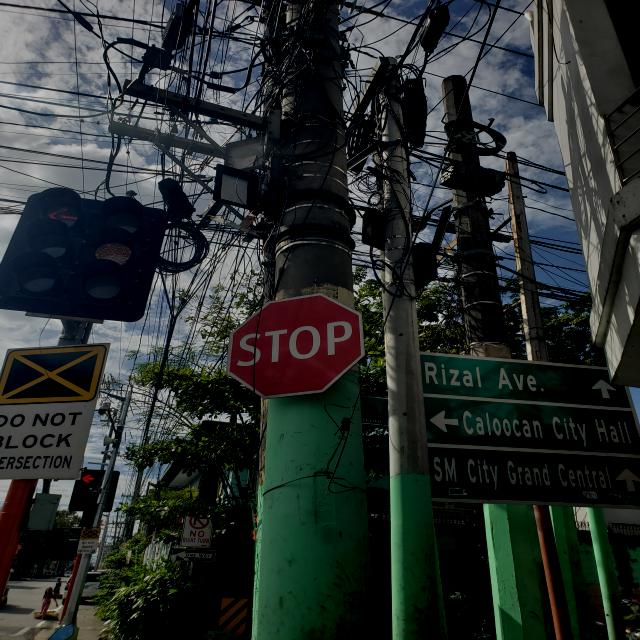stop-sign: (226, 292, 366, 400)
